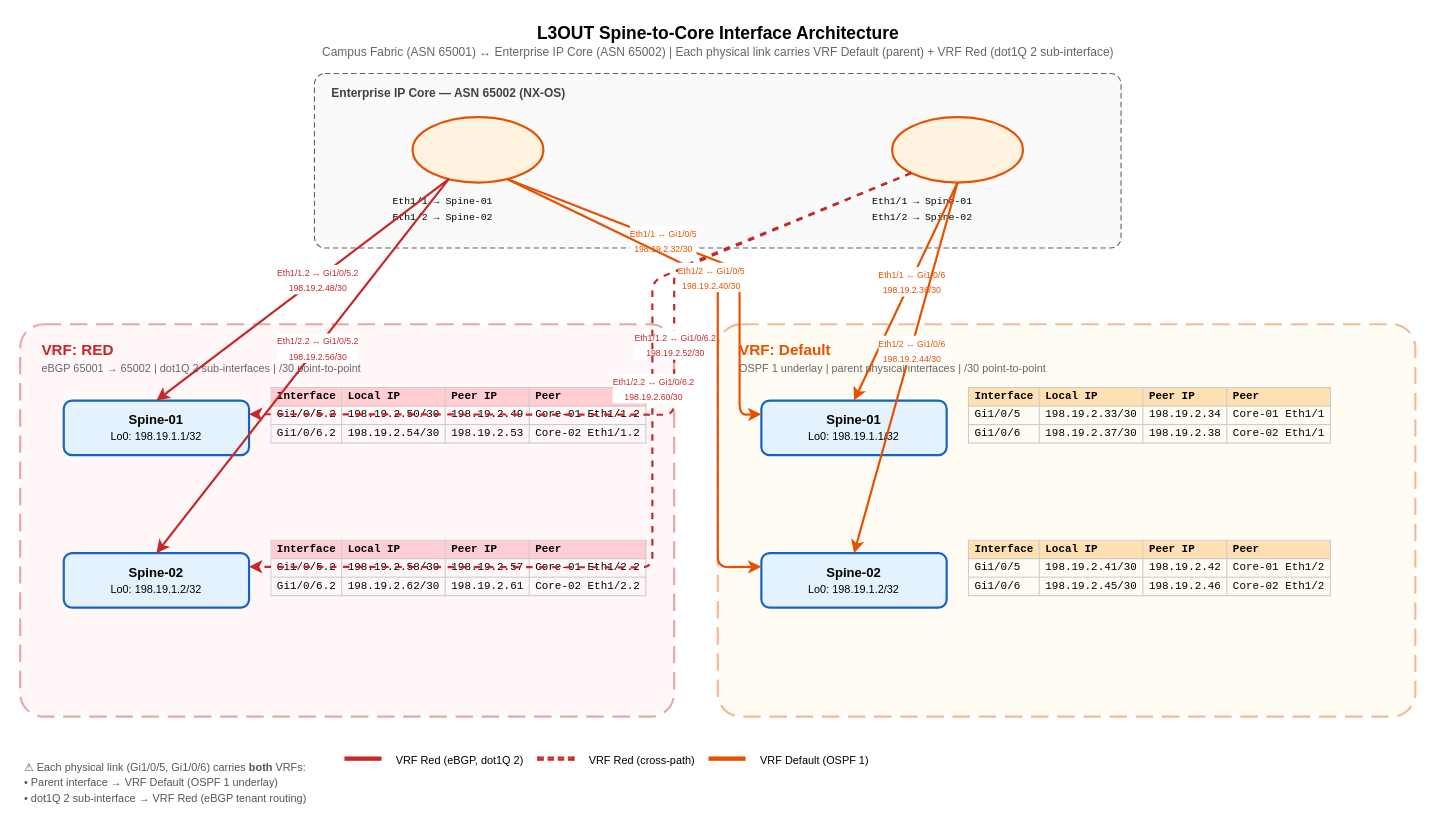
Image size: 1434x833. Some labels were removed from this diagram. Here are the shapes that lost their labels. From the top down, the box of each, then its label:
(411, 116, 544, 183): Core-01
(891, 116, 1024, 183): Core-02
